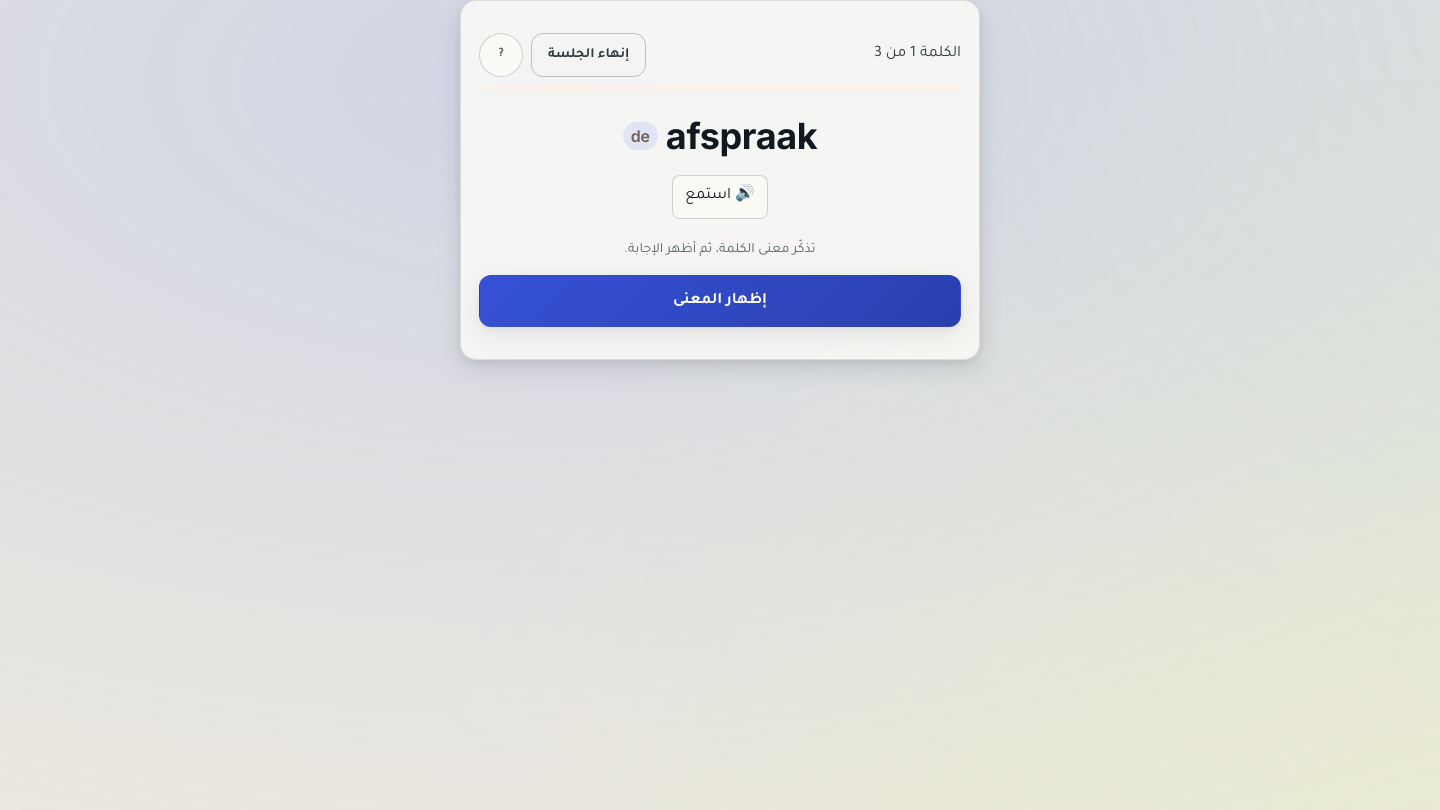
FlashCard session integrity › shows an actionable audio failure without blocking the review
Click the button with aria-label "استمع إلى الكلمة" at (720, 197), box [672,175,768,219]
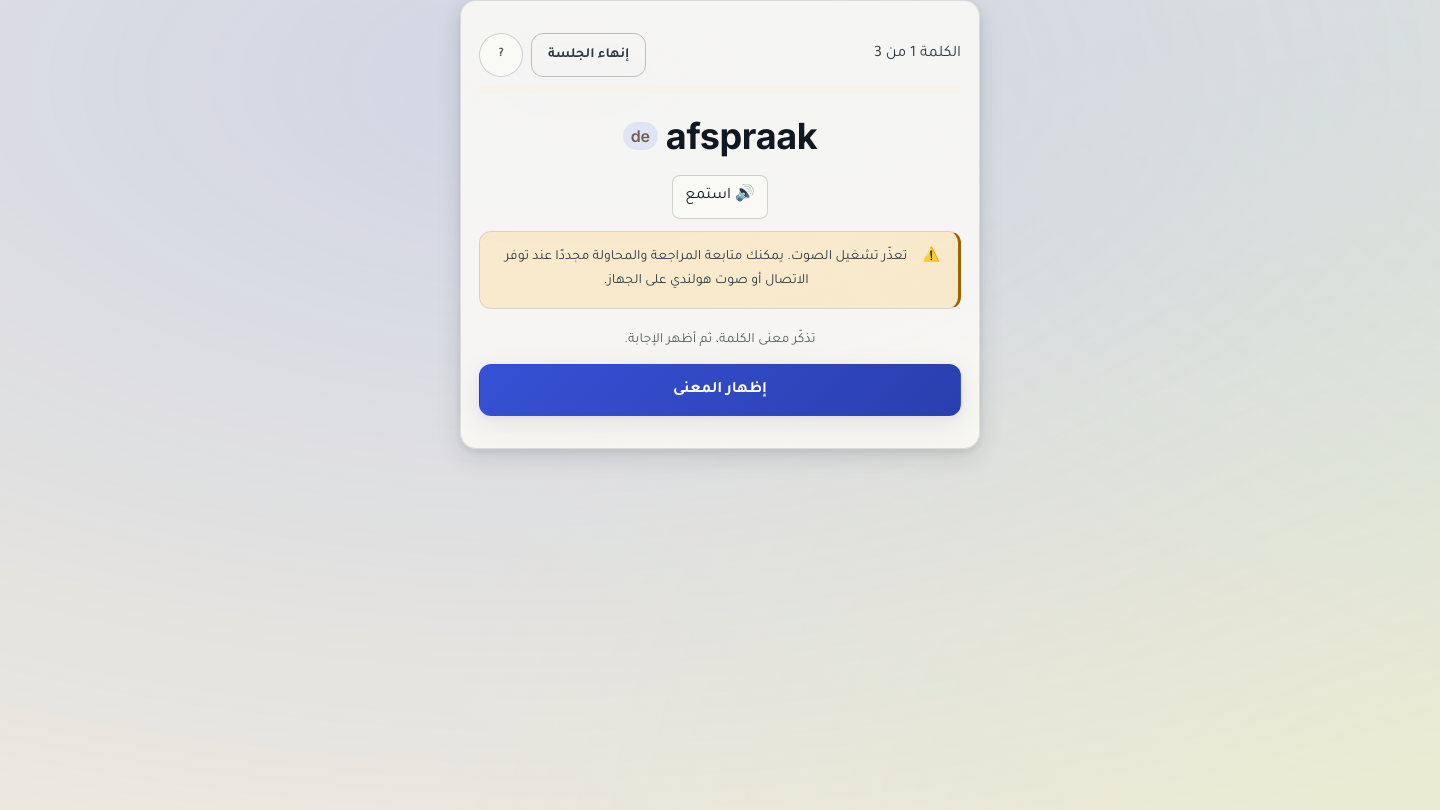
Expected: the button "إظهار المعنى" is enabled, [479,364,961,416]
Expected: the message shows "تعذّر تشغيل الصوت", [505,250,907,288]
